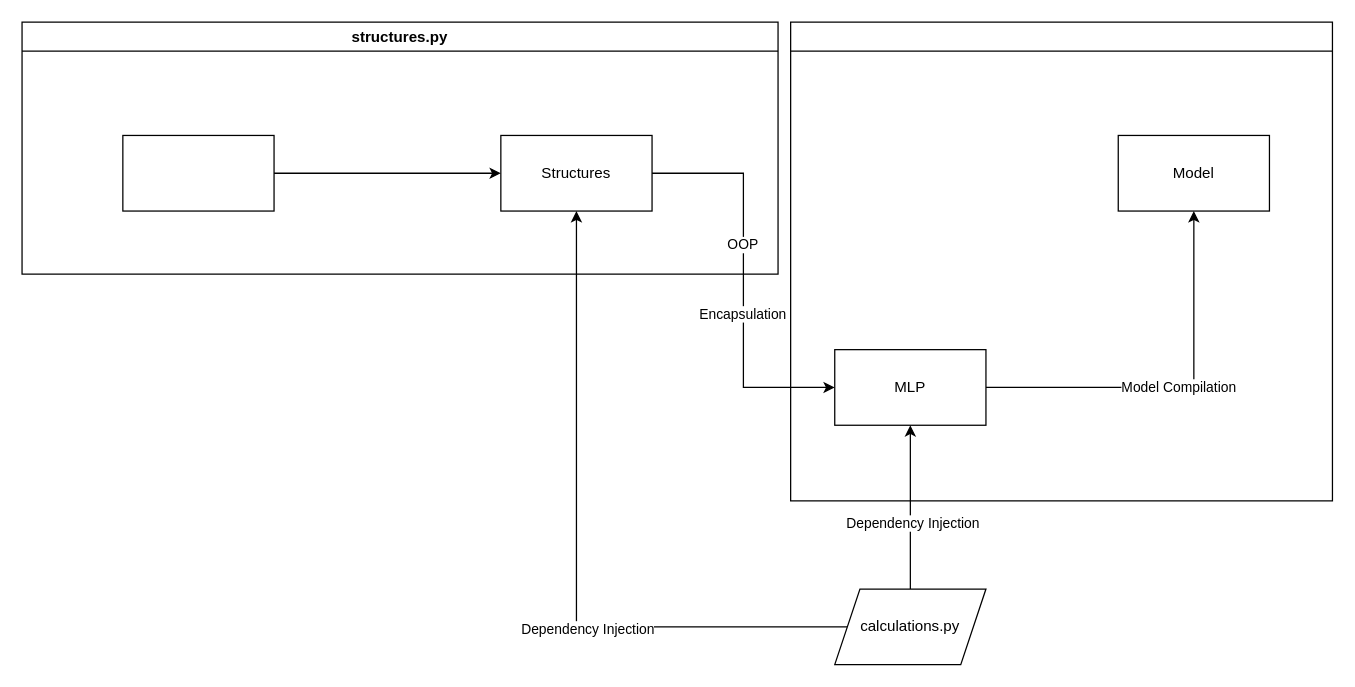
Image size: 1355x687. Some labels were removed from this diagram. Here are the shapes that lost their labels. From the top down, the centre of each, then its label:
pixel 198 172: Perceptron Layer
pixel 1060 261: model.py
